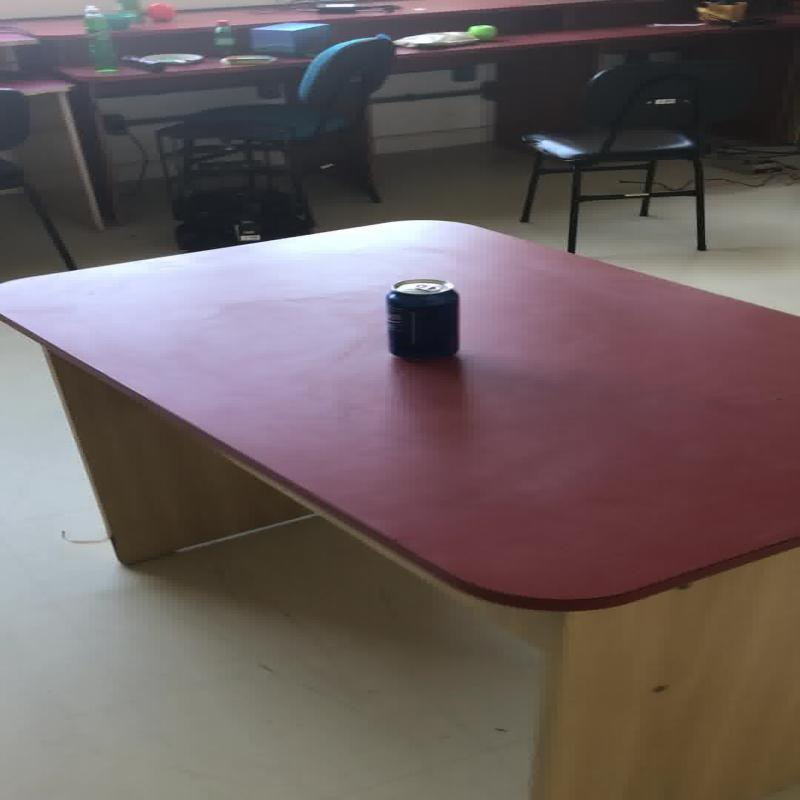tonic: (382, 277, 458, 359), (81, 4, 119, 72), (211, 18, 235, 46)
